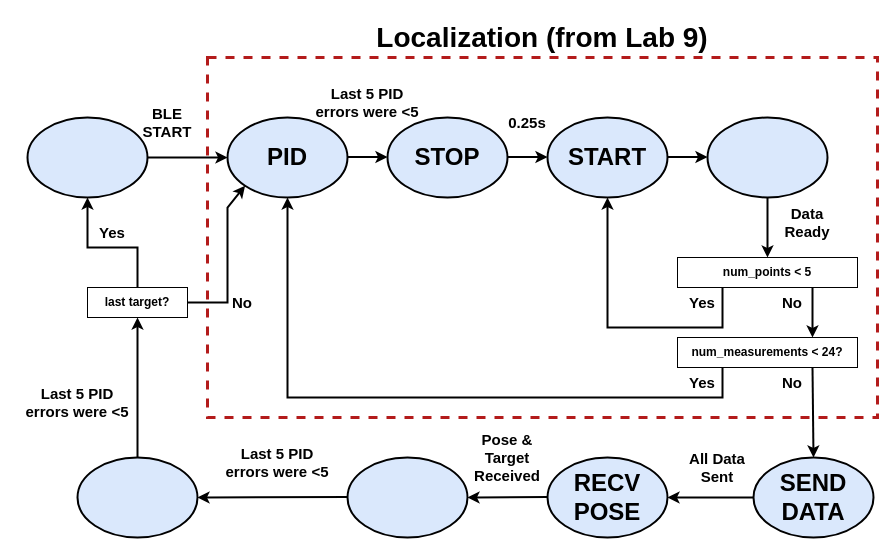
The diagram is 896 pixels wide and 555 high, and some of its shapes have lost their labels. Here are the shapes that lost their labels. From the top down, the centre of each, then its label:
pixel 87 157: IDLE
pixel 767 157: WAIT
pixel 137 497: PID TRANS
pixel 407 497: PID TURN
